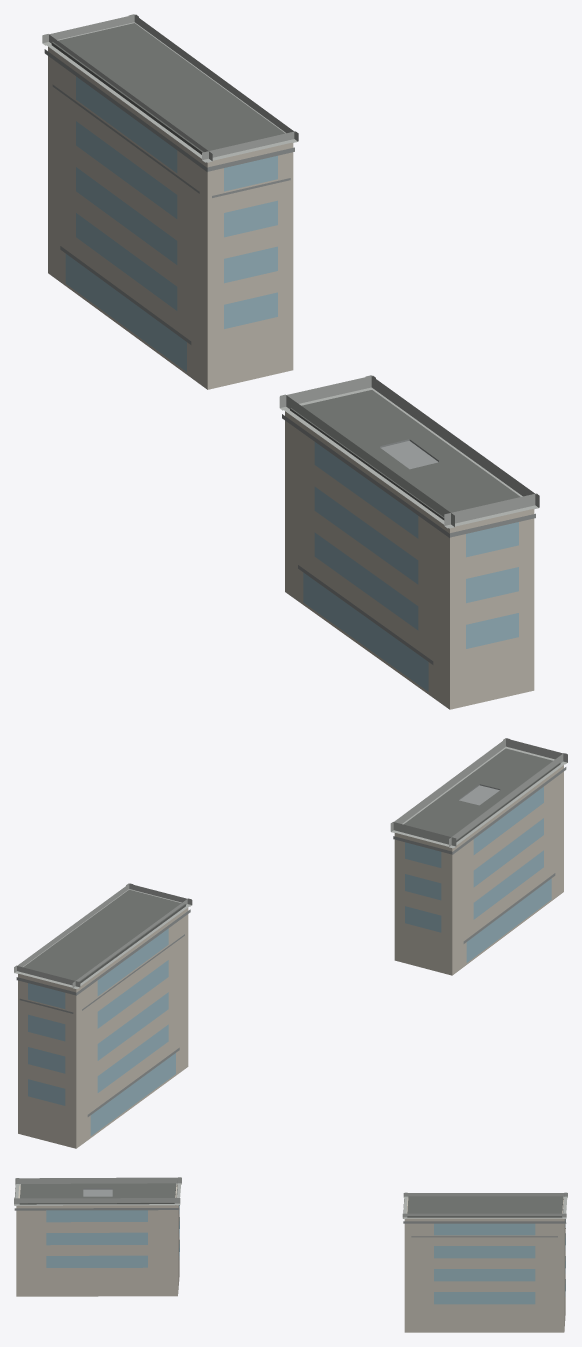
3 renders of one model, top to bottom at view 1: azimuth 30°, elevation 25°; view 2: azimuth 150°, elevation 25°; view 3: azimuth 270°, elevation 25°, orthographic. The views are drawn at different scales.
Parts seen in each view (by area): view 1: building-1750-mesh-6, building-1748-mesh-0, building-1750-mesh-7, building-1748-mesh-1, building-1750-mesh-9, building-1748-mesh-3, building-1748-mesh-4, building-1750-mesh-10, building-1750-mesh-8, building-1748-mesh-2, building-1748-mesh-5; view 2: building-1750-mesh-6, building-1748-mesh-0, building-1750-mesh-7, building-1748-mesh-1, building-1750-mesh-9, building-1748-mesh-3, building-1748-mesh-4, building-1750-mesh-10, building-1750-mesh-8, building-1748-mesh-2; view 3: building-1750-mesh-6, building-1748-mesh-0, building-1750-mesh-7, building-1748-mesh-1, building-1750-mesh-9, building-1748-mesh-3, building-1748-mesh-4, building-1750-mesh-10, building-1750-mesh-8, building-1748-mesh-2, building-1748-mesh-5.
Boxes of the visible parts, x1,y1,x2,y2 form: building-1750-mesh-6: (48, 46, 293, 389); building-1748-mesh-0: (285, 411, 534, 709); building-1750-mesh-7: (65, 76, 277, 371); building-1748-mesh-1: (303, 442, 518, 691); building-1750-mesh-9: (51, 23, 285, 154); building-1748-mesh-3: (290, 390, 520, 520); building-1748-mesh-4: (279, 375, 539, 528); building-1750-mesh-10: (42, 14, 298, 162); building-1750-mesh-8: (44, 49, 294, 344); building-1748-mesh-2: (282, 414, 535, 664); building-1748-mesh-5: (380, 439, 438, 469); building-1750-mesh-6: (18, 907, 188, 1148); building-1748-mesh-0: (394, 765, 563, 975); building-1750-mesh-7: (28, 928, 175, 1135); building-1748-mesh-1: (405, 786, 551, 962); building-1750-mesh-9: (23, 889, 185, 983); building-1748-mesh-3: (403, 748, 560, 842); building-1748-mesh-4: (390, 738, 567, 848); building-1750-mesh-10: (14, 883, 192, 988); building-1750-mesh-8: (16, 909, 190, 1116); building-1748-mesh-2: (393, 767, 566, 943); building-1750-mesh-6: (404, 1198, 565, 1332); building-1748-mesh-0: (16, 1184, 179, 1296); building-1750-mesh-7: (434, 1219, 565, 1304); building-1748-mesh-1: (46, 1205, 179, 1267); building-1750-mesh-9: (407, 1196, 563, 1217); building-1748-mesh-3: (19, 1183, 176, 1204); building-1748-mesh-4: (14, 1177, 181, 1205); building-1750-mesh-10: (402, 1192, 567, 1218); building-1750-mesh-8: (403, 1219, 566, 1237); building-1748-mesh-2: (14, 1205, 179, 1210); building-1748-mesh-5: (83, 1188, 112, 1196).
Bounding box in the file's own units: 18.44 × 17.3 × 73.31.
